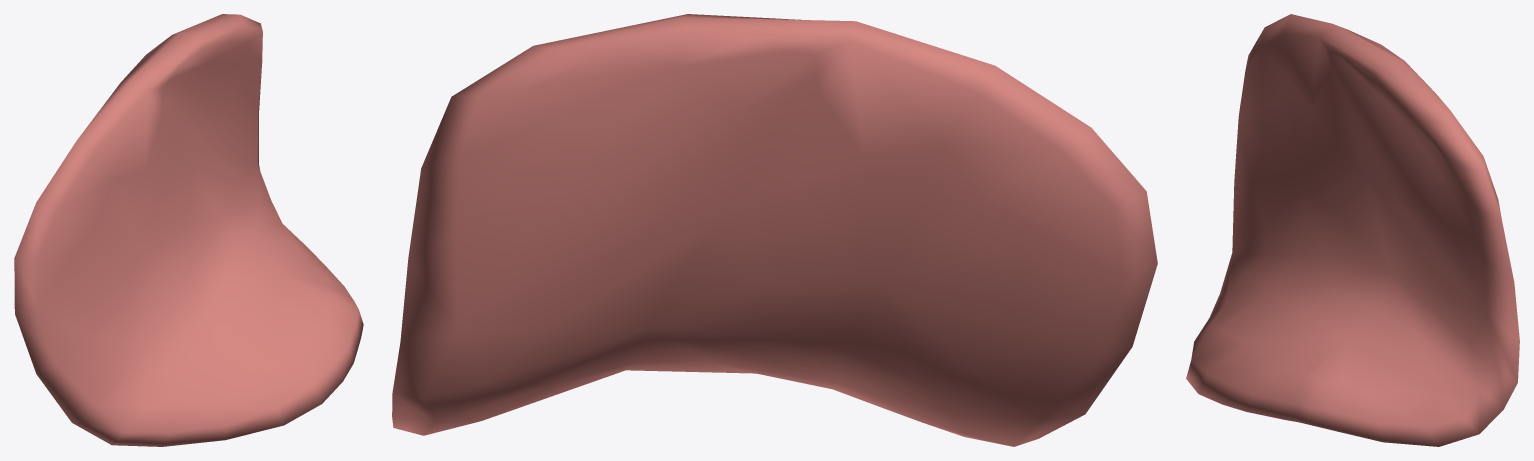
3 views of the same model, side by side, from view 1: azimuth 30°, elevation 25°; view 2: azimuth 150°, elevation 25°; view 3: azimuth 270°, elevation 25° (orthographic). The views are drawn at different scales.
Parts seen in each view (by area): view 1: ZA_1998bedbf6bee55c; view 2: ZA_1998bedbf6bee55c; view 3: ZA_1998bedbf6bee55c.
Boxes of the visible parts, x1,y1,x2,y2 form: ZA_1998bedbf6bee55c: [14, 14, 363, 446]; ZA_1998bedbf6bee55c: [392, 14, 1157, 446]; ZA_1998bedbf6bee55c: [1186, 14, 1519, 446].
Bounding box in the file's own units: 0.00613 × 0.00459 × 0.00426.
